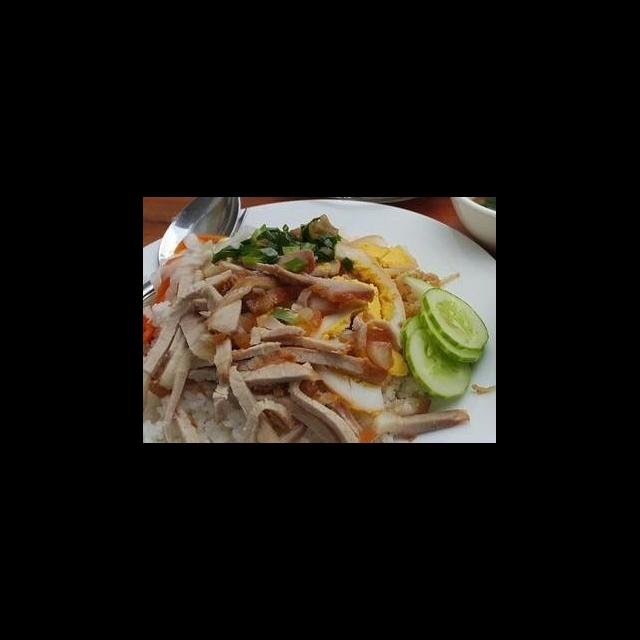com: (144, 384, 256, 443)
com suon trung: (145, 211, 489, 443)
dua chua: (147, 229, 236, 309)
suon: (144, 245, 378, 400), (206, 321, 372, 443)
trung: (306, 304, 386, 417), (332, 240, 412, 350), (346, 232, 421, 282)
